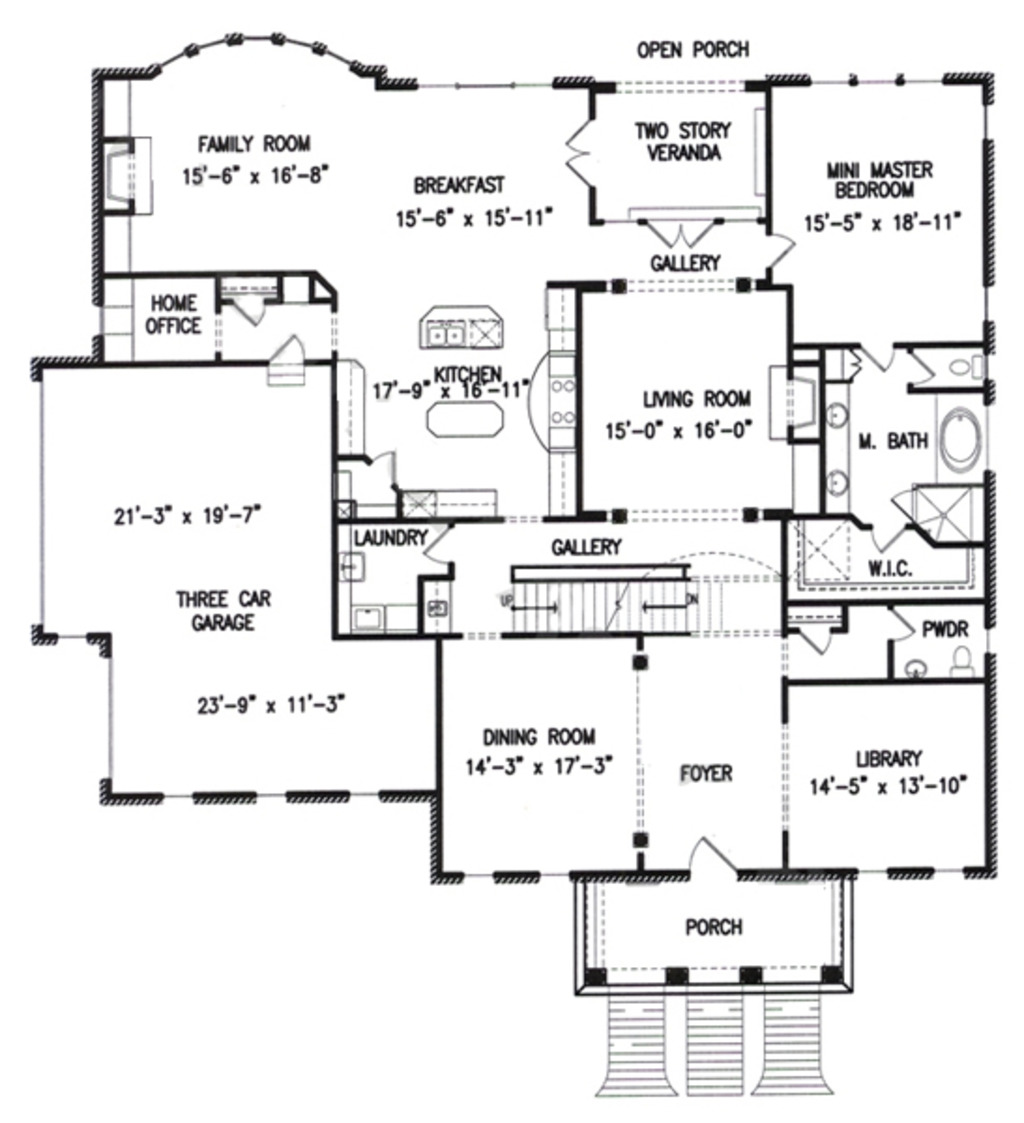door: (558, 115, 604, 197), (641, 212, 721, 255), (683, 830, 739, 883), (760, 221, 797, 274), (791, 620, 841, 659), (881, 598, 922, 643), (227, 302, 271, 328)
kitchen_bar: (410, 301, 508, 353)
large_sink: (943, 641, 978, 682), (940, 354, 986, 384)
small_sink: (822, 385, 861, 517)
stairs: (591, 993, 831, 1102), (492, 565, 729, 642)
tub: (930, 390, 989, 491)
windows: (147, 29, 345, 82), (799, 61, 949, 93), (849, 861, 974, 886), (446, 867, 560, 889)
